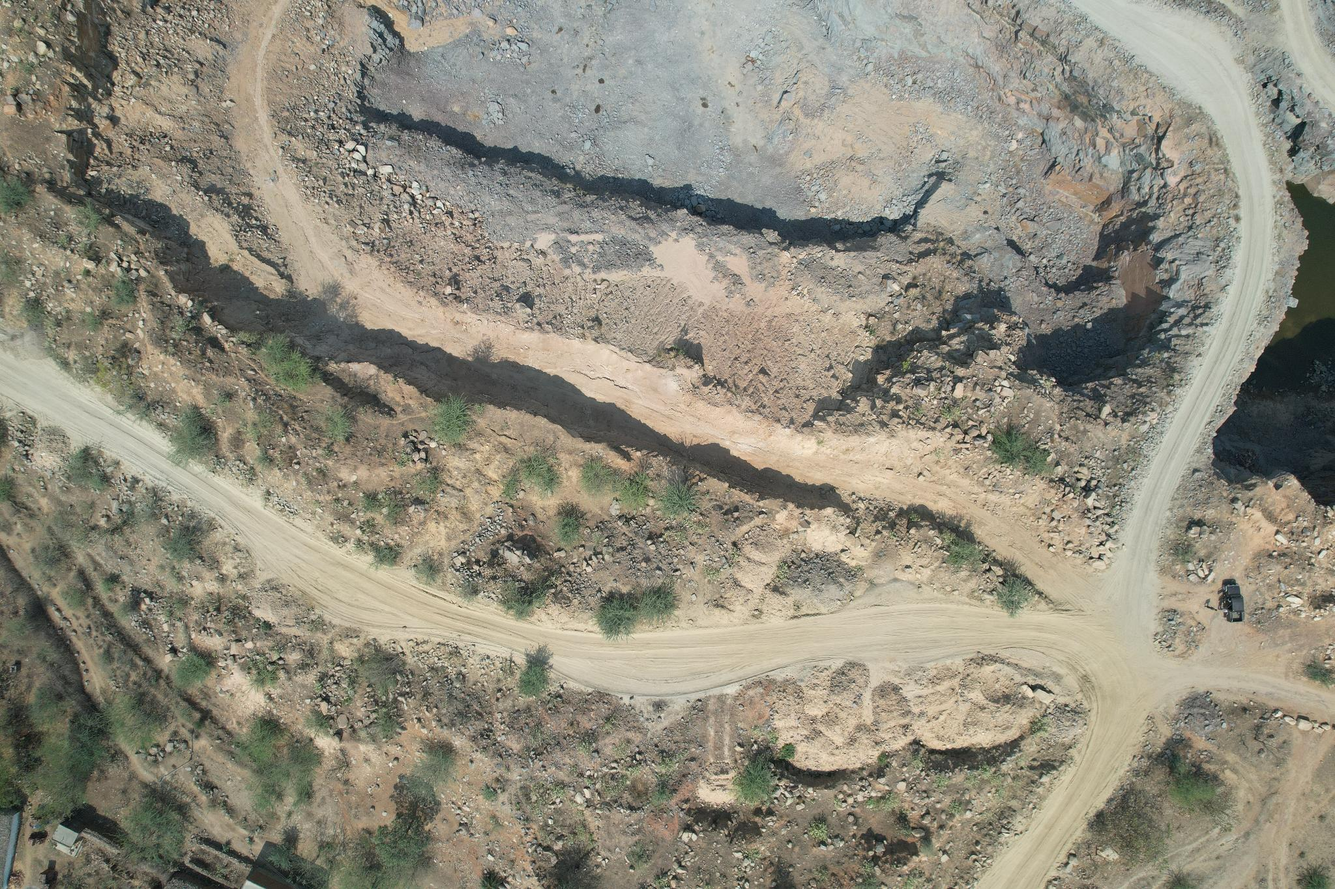benches: (0, 0, 1293, 889), (226, 0, 1105, 598), (1160, 870, 1203, 889)
truck: (1223, 580, 1247, 627)
